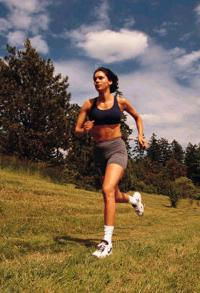person: (76, 66, 148, 261)
